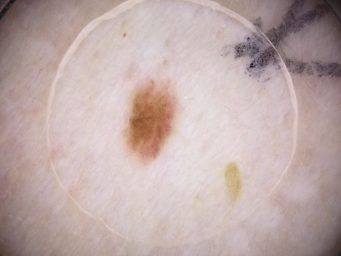nevus: (129, 83, 173, 157)
